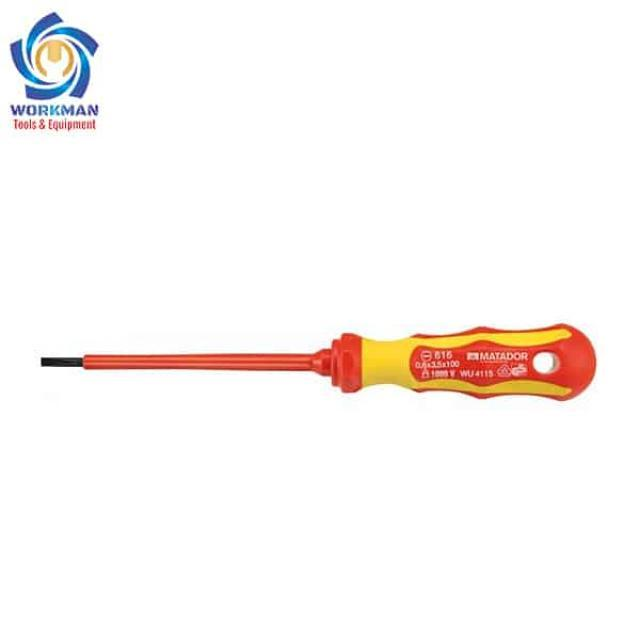screwdriver: (33, 318, 612, 401)
